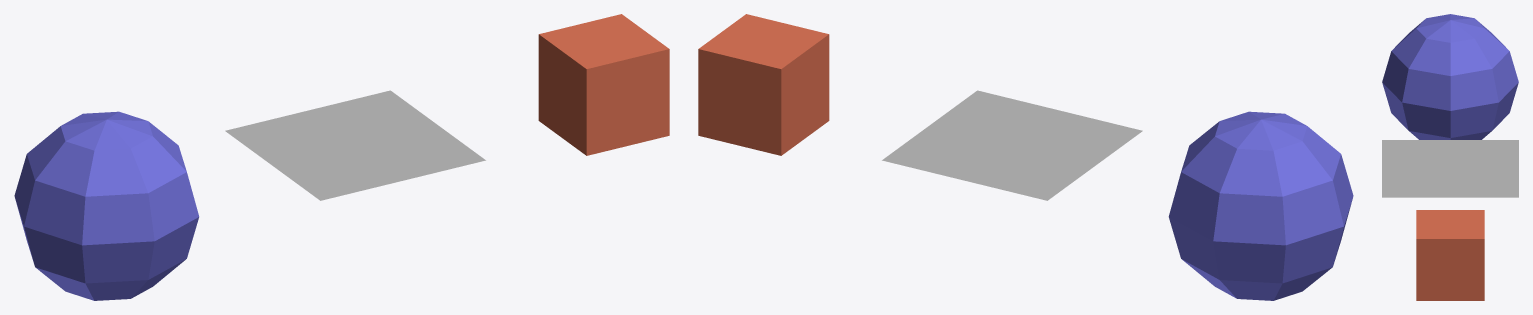
The model's file is maya_linked.fbx.
3 views of the same model, side by side, from view 1: azimuth 30°, elevation 25°; view 2: azimuth 150°, elevation 25°; view 3: azimuth 270°, elevation 25° (orthographic). The views are drawn at different scales.
Visible parts, largest first — view 1: ball, plane, cube; view 2: ball, plane, cube; view 3: ball, plane, cube.
Boxes of the visible parts, bbox=[...] form: ball: bbox=[14, 111, 199, 300]; plane: bbox=[225, 90, 485, 200]; cube: bbox=[538, 14, 669, 155]; ball: bbox=[1168, 111, 1353, 300]; plane: bbox=[882, 90, 1142, 200]; cube: bbox=[698, 14, 829, 155]; ball: bbox=[1382, 14, 1518, 139]; plane: bbox=[1382, 140, 1518, 197]; cube: bbox=[1416, 210, 1484, 300].
Size of the model in its own units: 7.5 by 2 by 2.
